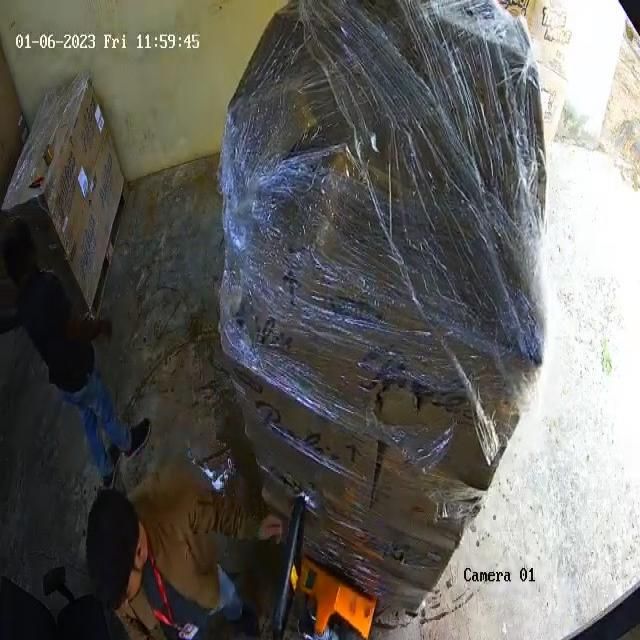leakage: (370, 365, 436, 442)
squeeze: (216, 97, 302, 291)
